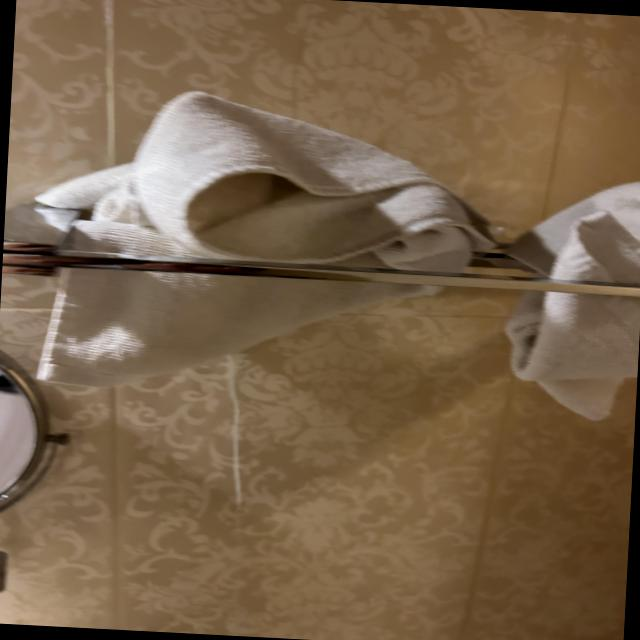mess: (0, 104, 640, 358)
